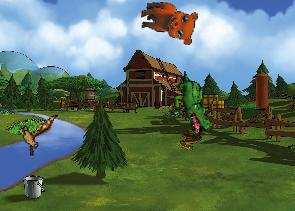bear: (138, 1, 198, 45)
crocodile: (159, 69, 225, 138)
eagle: (12, 106, 58, 160)
